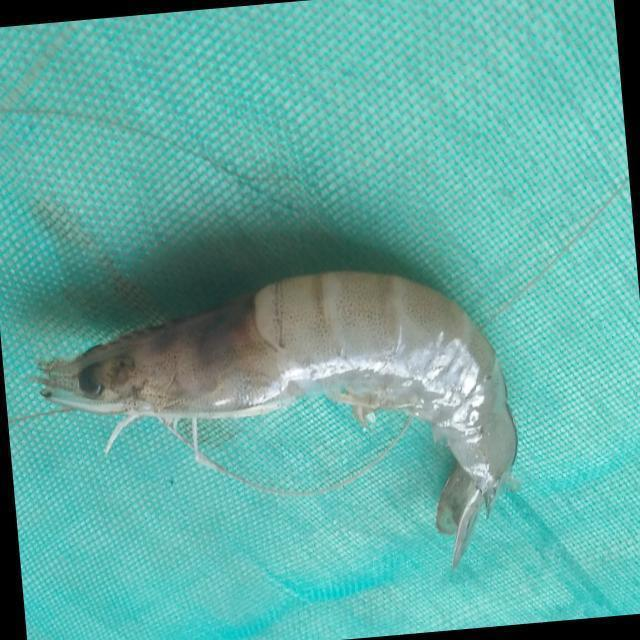shrimp: (41, 271, 517, 566)
